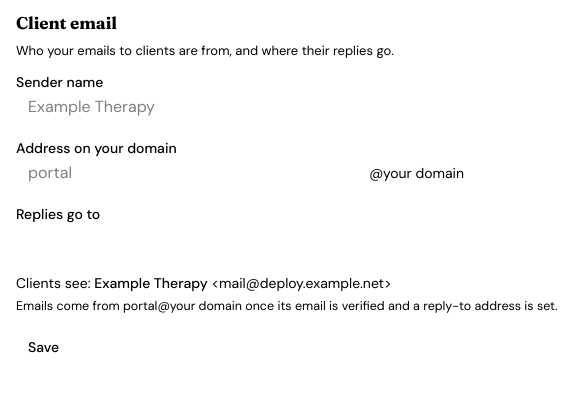
it: ClientEmailSenderCard › says why the server refused a save
Type "noreply" into the field labelled "Address on your domain" at (189, 173), box [16,155,361,191]
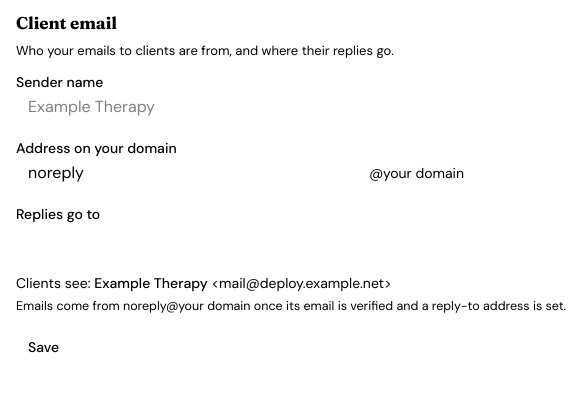
Click the button "Save" at (44, 347), box [16,331,71,363]
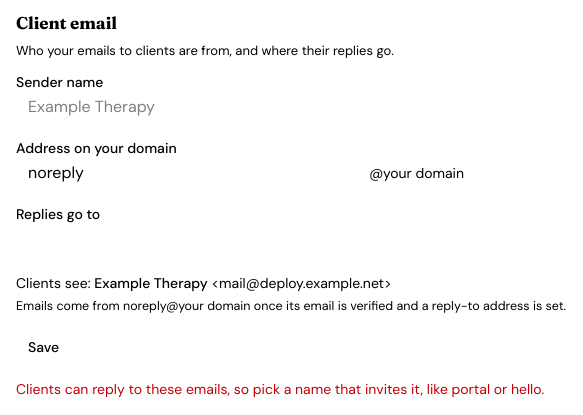
expect the message shows "Clients can reply to these emails, so pick a name that invites it, like portal or hello.": met, box [16,380,544,398]
